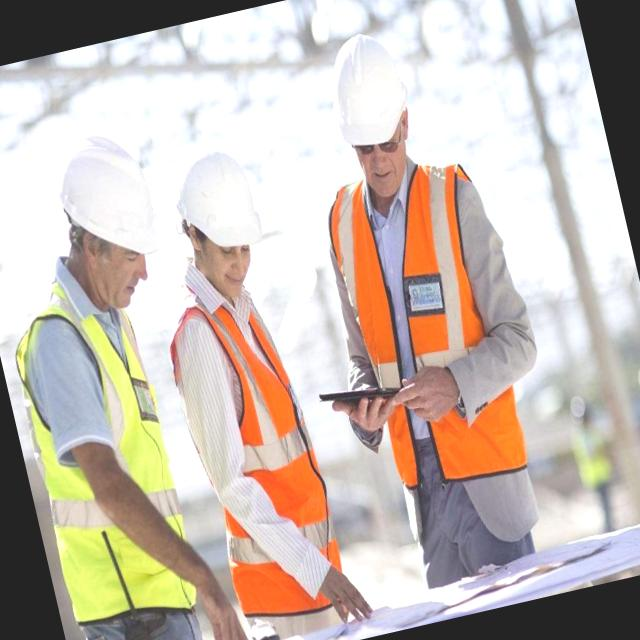helmet: (31, 110, 172, 294), (154, 119, 277, 273), (303, 26, 423, 176)
no-goggles: (79, 222, 152, 290), (192, 216, 263, 276), (342, 118, 414, 176)
vest: (308, 140, 550, 514), (0, 274, 219, 640), (151, 264, 363, 624)
